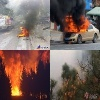fire: (62, 75, 85, 99), (65, 13, 89, 34), (16, 27, 28, 37), (11, 85, 20, 96)
